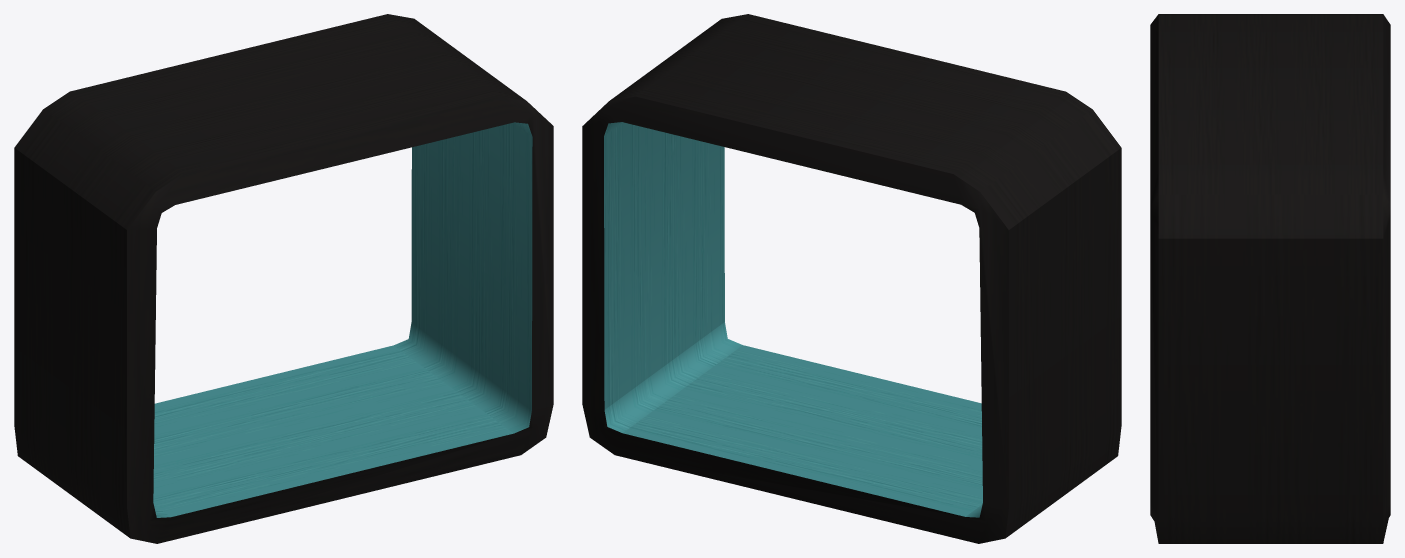
The model's file is Wall_Shelf_02_C.FBX.
The picture shows the model from 3 angles, left to right: view 1: azimuth 30°, elevation 25°; view 2: azimuth 150°, elevation 25°; view 3: azimuth 270°, elevation 25°; orthographic projection.
Visible parts, largest first — view 1: Wall_Shelf_02; view 2: Wall_Shelf_02; view 3: Wall_Shelf_02.
Part boxes in pixels (<box>): Wall_Shelf_02: <box>14,14,553,543</box>; Wall_Shelf_02: <box>582,14,1121,543</box>; Wall_Shelf_02: <box>1150,14,1390,543</box>.
Size of the model in its own units: 120 by 98.08 by 58.85.
